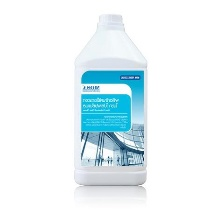cleaning_solution: (69, 11, 151, 190)
